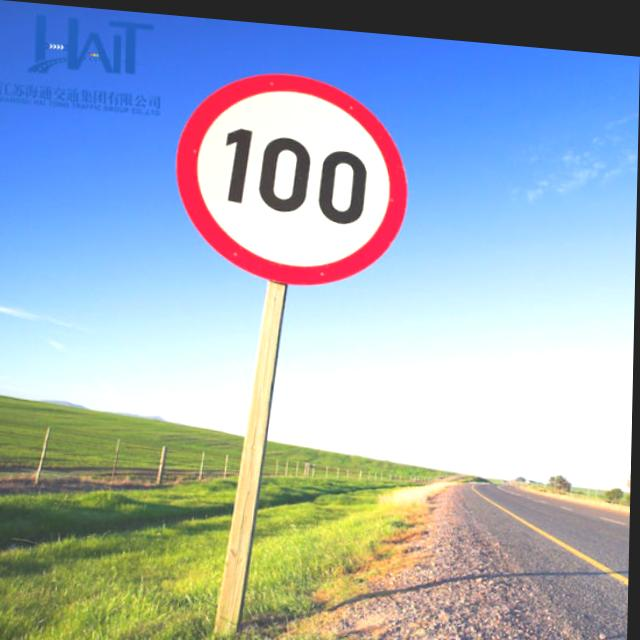limit100: (173, 58, 412, 287)
